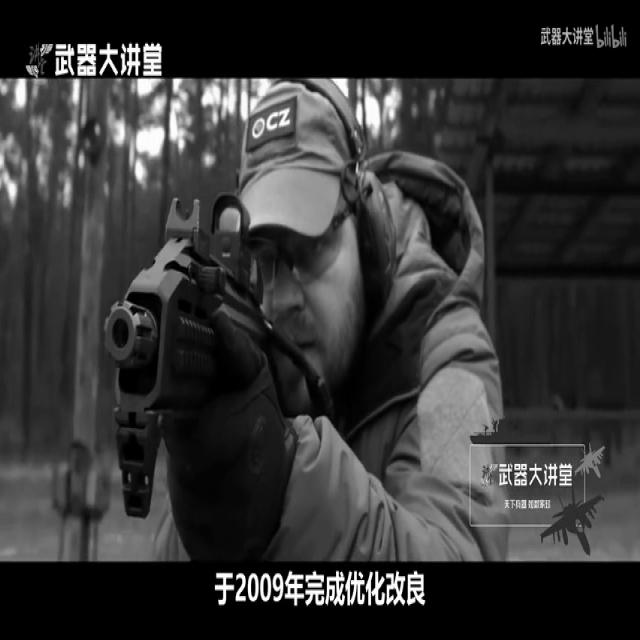Sub-machine-gun: (84, 175, 310, 551)
